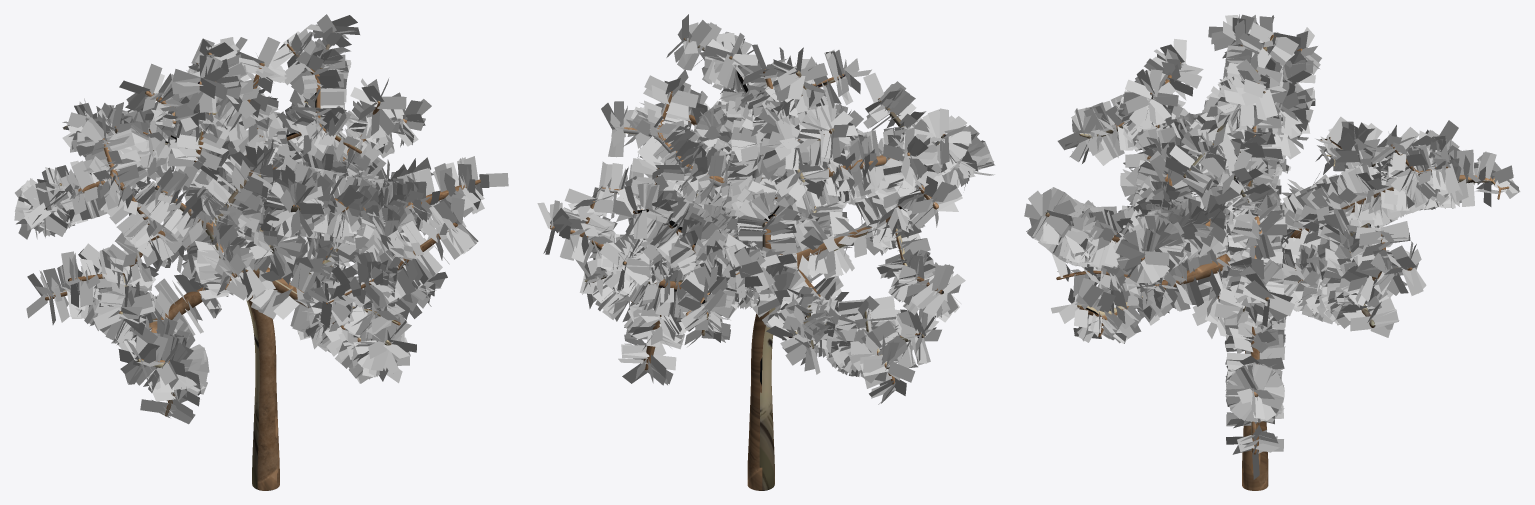
File: derevo3.fbx
3 views of the same model, side by side, from view 1: azimuth 30°, elevation 25°; view 2: azimuth 150°, elevation 25°; view 3: azimuth 270°, elevation 25° (orthographic). The views are drawn at different scales.
Visible parts, largest first — view 1: Снимок экрана 2024-07-16 164004.2879, Plane.003; view 2: Снимок экрана 2024-07-16 164004.2879, Plane.003; view 3: Снимок экрана 2024-07-16 164004.2879, Plane.003.
Part boxes in pixels (x1,y1,x2,y2): Снимок экрана 2024-07-16 164004.2879: (14,14,508,424); Plane.003: (40,25,480,490); Снимок экрана 2024-07-16 164004.2879: (537,14,994,404); Plane.003: (550,38,946,490); Снимок экрана 2024-07-16 164004.2879: (1024,14,1520,479); Plane.003: (1045,34,1509,490).
Bounding box in the file's own units: 2818 × 3244 × 3265.
